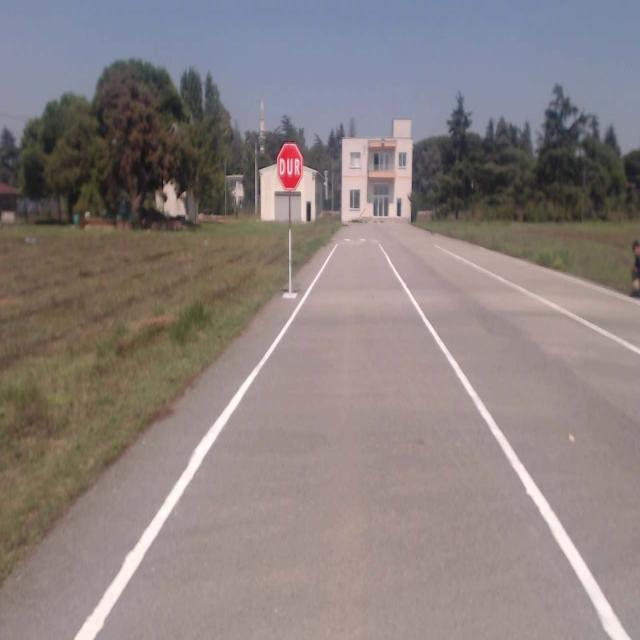dur: (277, 143, 303, 189)
